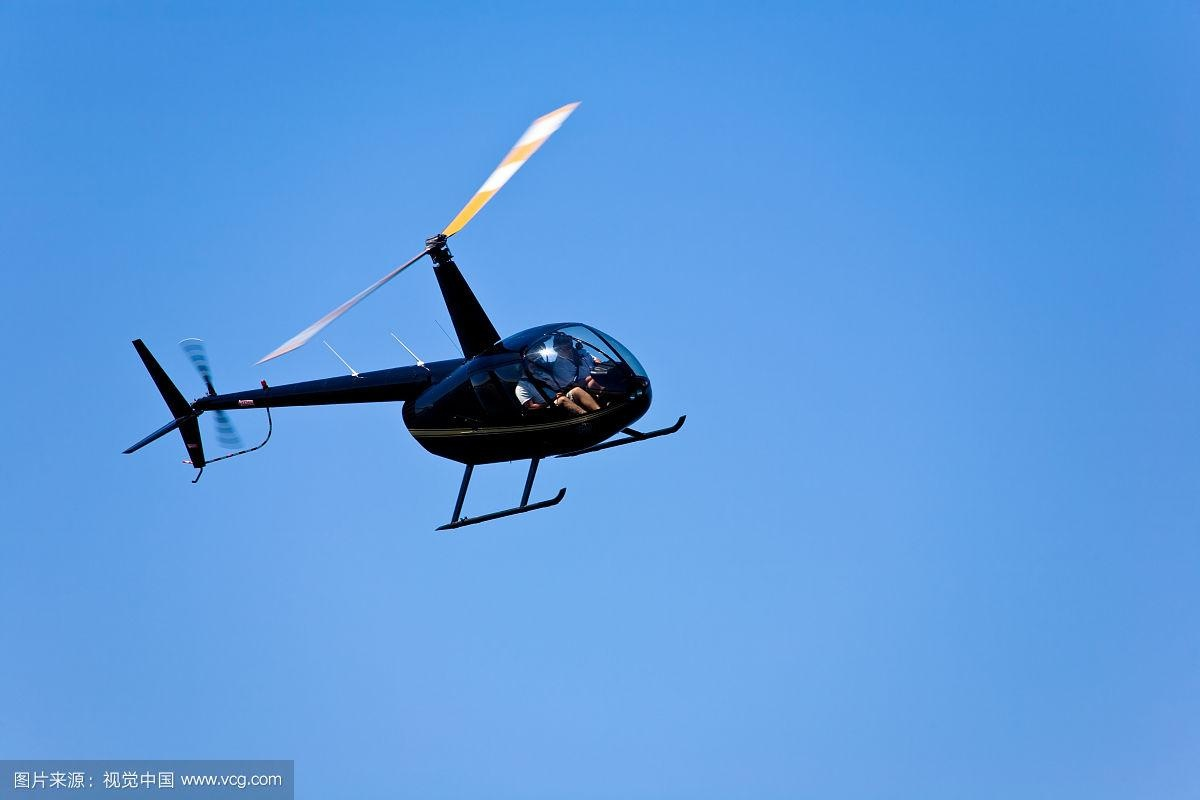airplane: (113, 95, 709, 532)
